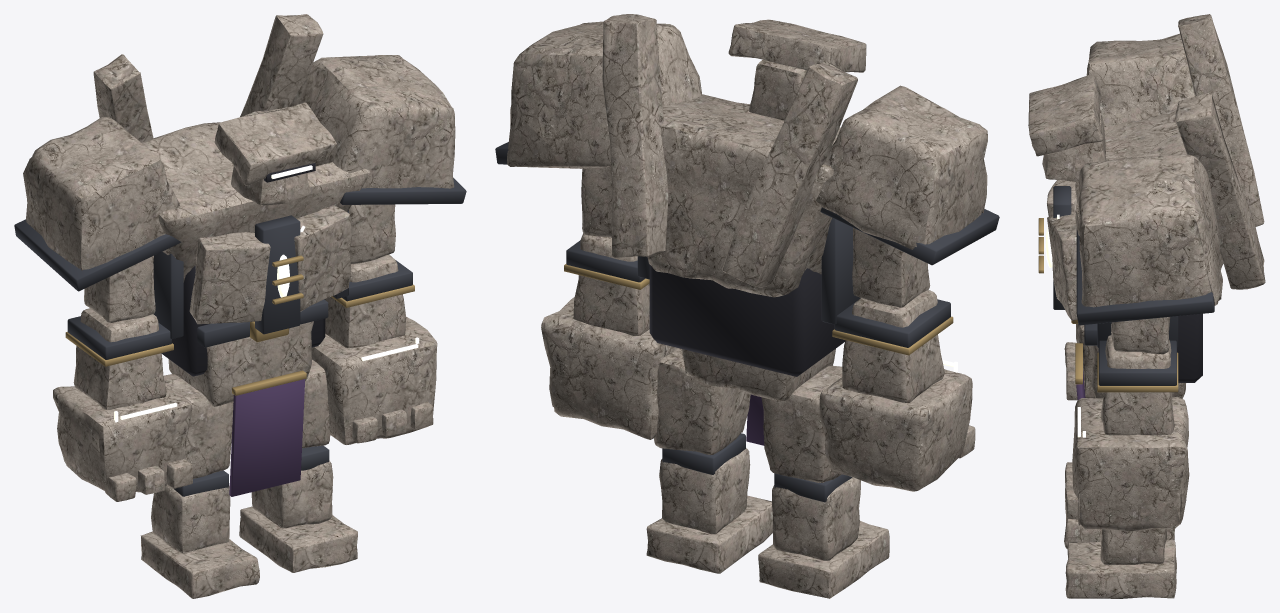
The model's file is custode.glb.
The picture shows the model from 3 angles, left to right: view 1: azimuth 30°, elevation 25°; view 2: azimuth 150°, elevation 25°; view 3: azimuth 270°, elevation 25°; orthographic projection. The views are drawn at different scales.
Visible parts, largest first — view 1: guardian-torso-mesh, guardian-left-arm-mesh, guardian-right-arm-mesh, guardian-left-elbow-mesh, guardian-right-elbow-mesh, guardian-left-leg-mesh, guardian-right-leg-mesh, guardian-head-mesh, guardian-voice-seal-mesh; view 2: guardian-torso-mesh, guardian-left-arm-mesh, guardian-left-elbow-mesh, guardian-right-leg-mesh, guardian-right-arm-mesh, guardian-right-elbow-mesh, guardian-left-leg-mesh, guardian-head-mesh; view 3: guardian-right-arm-mesh, guardian-torso-mesh, guardian-right-elbow-mesh, guardian-left-arm-mesh, guardian-right-leg-mesh, guardian-head-mesh, guardian-left-elbow-mesh, guardian-left-leg-mesh, guardian-voice-seal-mesh.
Part boxes in pixels (left/top/right/bottom): guardian-torso-mesh: left=93, top=14, right=369, bottom=496; guardian-left-arm-mesh: left=14, top=117, right=181, bottom=322; guardian-right-arm-mesh: left=289, top=55, right=466, bottom=264; guardian-left-elbow-mesh: left=53, top=308, right=192, bottom=501; guardian-right-elbow-mesh: left=311, top=254, right=437, bottom=444; guardian-left-leg-mesh: left=140, top=373, right=259, bottom=598; guardian-right-leg-mesh: left=239, top=359, right=357, bottom=572; guardian-head-mesh: left=214, top=102, right=336, bottom=205; guardian-voice-seal-mesh: left=272, top=225, right=305, bottom=304; guardian-torso-mesh: left=602, top=14, right=860, bottom=445; guardian-left-arm-mesh: left=816, top=85, right=999, bottom=307; guardian-left-elbow-mesh: left=819, top=290, right=975, bottom=491; guardian-right-leg-mesh: left=646, top=348, right=772, bottom=573; guardian-right-arm-mesh: left=495, top=21, right=701, bottom=237; guardian-right-elbow-mesh: left=541, top=233, right=677, bottom=439; guardian-left-leg-mesh: left=758, top=365, right=889, bottom=598; guardian-head-mesh: left=728, top=19, right=866, bottom=120; guardian-right-arm-mesh: left=1076, top=154, right=1220, bottom=354; guardian-torso-mesh: left=1047, top=14, right=1265, bottom=400; guardian-right-elbow-mesh: left=1065, top=335, right=1189, bottom=531; guardian-left-arm-mesh: left=1086, top=33, right=1194, bottom=127; guardian-right-leg-mesh: left=1065, top=529, right=1176, bottom=598; guardian-head-mesh: left=1028, top=73, right=1106, bottom=181; guardian-left-elbow-mesh: left=1064, top=324, right=1095, bottom=400; guardian-left-leg-mesh: left=1064, top=508, right=1175, bottom=549; guardian-voice-seal-mesh: left=1038, top=214, right=1059, bottom=273.
Size of the model in its own units: 3.52 by 4.25 by 1.82.
Materials: 6 (1 with a texture image).
